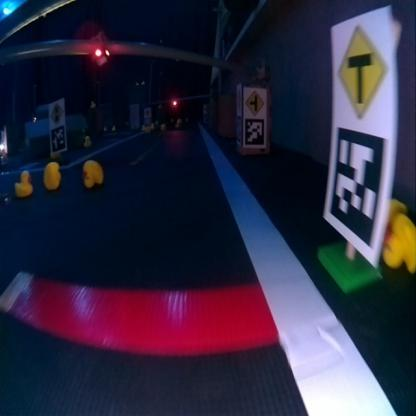Duckie: (383, 217, 411, 273), (83, 160, 102, 187), (14, 169, 33, 196), (43, 162, 60, 189), (82, 135, 92, 147), (160, 123, 166, 129)
Intersection sign: (335, 22, 387, 122), (248, 90, 263, 114)
QR code: (326, 128, 384, 244), (244, 118, 263, 144)
Signal sign: (49, 102, 65, 125)
Traffic light: (92, 39, 108, 65), (172, 98, 178, 107)
